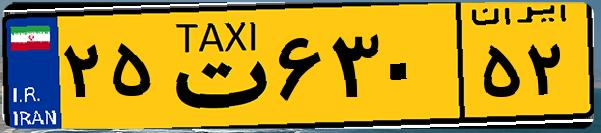0: (385, 28, 445, 110)
2: (57, 26, 110, 100), (525, 38, 570, 115)
3: (330, 28, 385, 110)
5: (475, 38, 525, 113), (110, 28, 158, 98)
6: (270, 28, 330, 110)
ت: (158, 12, 270, 120)
